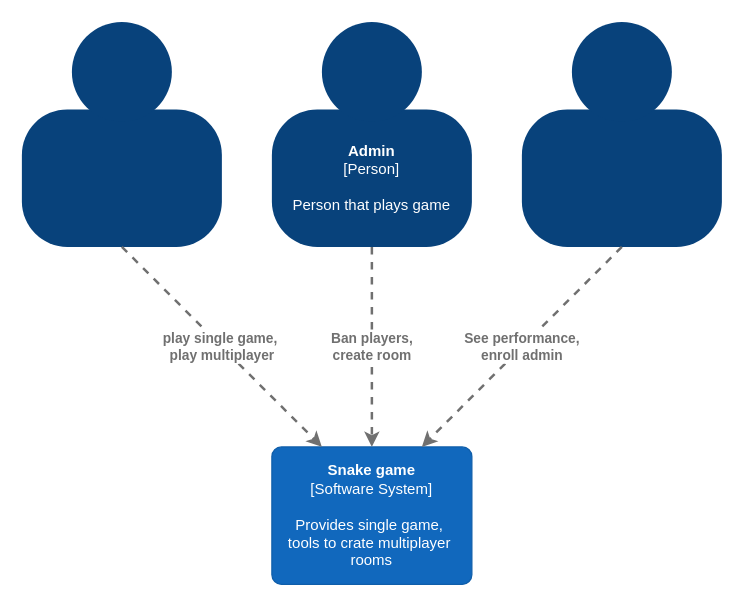
This 744x606 diagram has some shape labels left out. The shapes that lost their labels are listed below. From the top down, each one's centre as x and y in pixels, then its label:
(121,177): Player [Person] Person that plays game, got account
(621,177): Developer [Person] Person that maintain game
